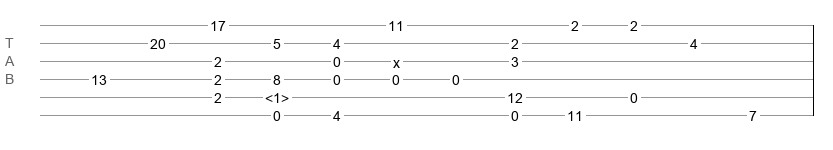0: (273, 108, 281, 118), (333, 54, 341, 64), (333, 72, 341, 82), (392, 72, 400, 82), (452, 72, 460, 82), (511, 108, 519, 118), (630, 90, 638, 100)
11: (388, 18, 404, 28), (567, 108, 583, 118)
12: (507, 90, 523, 100)
13: (91, 72, 107, 82)
17: (210, 18, 226, 28)
2: (214, 54, 222, 64), (214, 90, 222, 100), (214, 72, 222, 82), (511, 36, 519, 46), (571, 18, 579, 28), (630, 18, 638, 28)
20: (150, 36, 166, 46)
3: (511, 54, 519, 64)
4: (333, 36, 341, 46), (333, 108, 341, 118), (690, 36, 698, 46)
5: (273, 36, 281, 46)
7: (749, 108, 757, 118)
8: (273, 72, 281, 82)
harmonic: (265, 90, 289, 100)
x: (393, 55, 400, 63)
